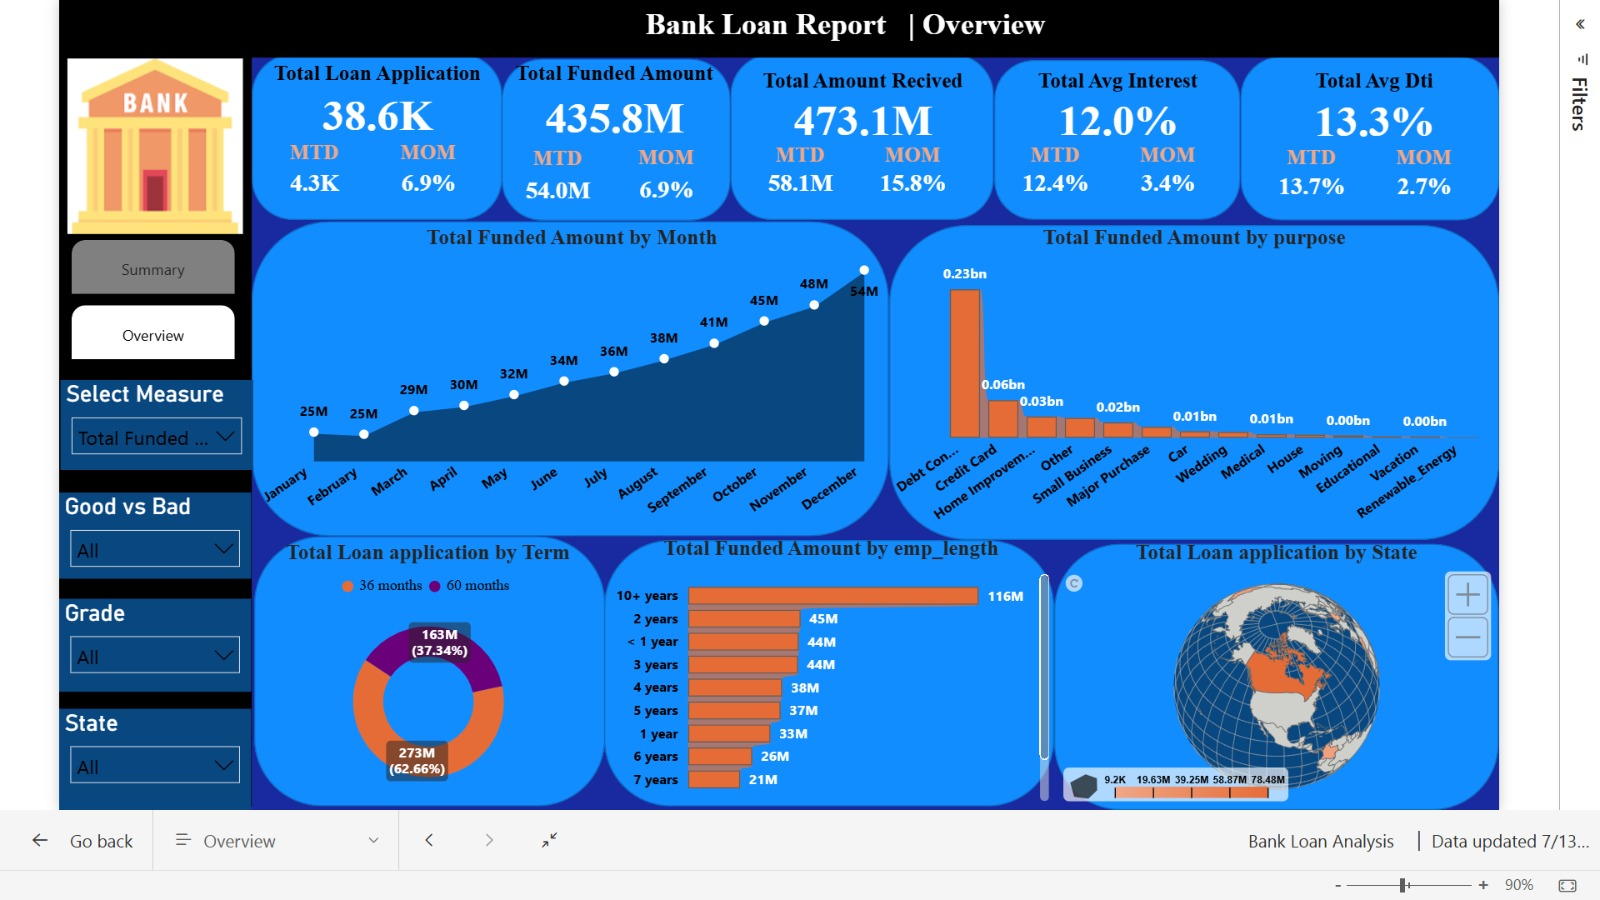

What the dashboard file says about the page in this screenshot:
{"tool":"powerbi","page":{"name":"Overview","canvas":[1280,720],"ordinal":1},"visuals":[{"type":"card","title":"Total Loan Application","fields":{"Values":["bank_loan_db financial_loan.Total Loan application"]},"box":[184,54.4,196.8,69.7],"z":0,"group":"g2"},{"type":"card","title":"Total Funded Amount","fields":{"Values":["bank_loan_db financial_loan.Total Funded Amount"]},"box":[392,54.4,202.8,74.8],"z":0,"group":"g1"},{"type":"card","title":"Total Amount Recived","fields":{"Values":["bank_loan_db financial_loan.Total Amount Recived"]},"box":[616.3,61.4,195.4,65.1],"z":0,"group":"g3"},{"type":"card","title":"Total Avg Interest","fields":{"Values":["bank_loan_db financial_loan.Total_Avg_Interest"]},"box":[842.9,61.4,195.4,65.1],"z":0,"group":"g4"},{"type":"card","title":"Total Avg Dti","fields":{"Values":["bank_loan_db financial_loan.Total_Avg_Dti"]},"box":[1071.4,61.4,195.4,67.3],"z":0,"group":"g5"},{"type":"shape","box":[884.8,483.2,395.2,236.8],"z":0},{"type":"card","title":"MTD","fields":{"Values":["bank_loan_db financial_loan.MTD Total Application"]},"box":[184,124.1,84.6,55.1],"z":1000,"group":"g2"},{"type":"card","title":"MTD","fields":{"Values":["bank_loan_db financial_loan.MTD Amount Recived"]},"box":[616.3,126.5,84,51.4],"z":1000,"group":"g3"},{"type":"card","title":"MTD","fields":{"Values":["bank_loan_db financial_loan.MTD Avg_Interest"]},"box":[842.9,126.5,84,51.4],"z":1000,"group":"g4"},{"type":"card","title":"MTD","fields":{"Values":["bank_loan_db financial_loan.MTD_Avg_Dti"]},"box":[1071.4,128.7,84,53.1],"z":1000,"group":"g5"},{"type":"card","title":"MTD","fields":{"Values":["bank_loan_db financial_loan.MTD Funded Amount"]},"box":[392.5,129.9,101.6,57.3],"z":1000,"group":"g1"},{"type":"shape","box":[172.8,476.8,312,240],"z":1000},{"type":"shape","box":[597.1,48,234.2,147.8],"z":2000},{"type":"card","title":"MOM","fields":{"Values":["bank_loan_db financial_loan.MOM Total Application"]},"box":[273.8,124.1,107,55.1],"z":2000,"group":"g2"},{"type":"card","title":"MOM","fields":{"Values":["bank_loan_db financial_loan.MOM Recived Amount"]},"box":[705.4,126.5,106.3,51.4],"z":2000,"group":"g3"},{"type":"card","title":"MOM","fields":{"Values":["bank_loan_db financial_loan.MOM Avg_Interest"]},"box":[932,126.5,106.3,51.4],"z":2000,"group":"g4"},{"type":"card","title":"MOM","fields":{"Values":["bank_loan_db financial_loan.MOM Avg_Dti"]},"box":[1160.5,128.7,106.3,53.1],"z":2000,"group":"g5"},{"type":"card","title":"MOM","fields":{"Values":["bank_loan_db financial_loan.MOM Funded Amount"]},"box":[484.5,129.2,110.3,59.1],"z":2000,"group":"g1"},{"type":"shape","box":[831.4,53.8,218.9,142.1],"z":3000},{"type":"shape","box":[393.6,51.8,203.5,144],"z":4000},{"type":"group","id":"g1","title":"Group 1","box":[392,54.4,203.2,132.8],"z":5000},{"type":"shape","box":[170.9,48,222.7,147.8],"z":6000},{"type":"shape","box":[1050.2,49.9,230.4,145.9],"z":7000},{"type":"shape","box":[0,0,1280,51.2],"z":8000},{"type":"shape","box":[0,48,171.2,668.8],"z":9000},{"type":"textbox","box":[451.2,0,496,51.2],"z":10000},{"type":"group","id":"g2","title":"Group 1","box":[184,54.4,196.8,124.8],"z":11000},{"type":"group","id":"g3","title":"Group 1","box":[616.3,61.4,195.8,117.1],"z":12000},{"type":"group","id":"g4","title":"Group 1","box":[842.9,61.4,195.8,117.1],"z":13000},{"type":"group","id":"g5","title":"Group 1","box":[1071.4,61.4,195.8,121],"z":14000},{"type":"slicer","title":"Good vs Bad","fields":{"Values":["bank_loan_db financial_loan.Good  VS Bad Loan"]},"box":[0,437.8,170.9,76.8],"z":15000},{"type":"slicer","title":"Grade","fields":{"Values":["bank_loan_db financial_loan.grade"]},"box":[0,531.8,170.9,82.6],"z":16000},{"type":"slicer","title":"State","fields":{"Values":["bank_loan_db financial_loan.address_state"]},"box":[0,629.8,170.9,90.2],"z":17000},{"type":"shape","box":[171.2,196.8,566.4,280],"z":18000},{"type":"slicer","title":"Select Measure","fields":{"Values":["Measure.Measure"]},"box":[1.6,337.6,171.2,80],"z":19000},{"type":"areaChart","fields":{"Y":["bank_loan_db financial_loan.Total Loan application"],"Category":["Date Table.Date.Variation.Date Hierarchy.Month"]},"box":[172.8,200,564.8,276.8],"z":20000},{"type":"shape","box":[737.6,200,542.4,280],"z":21000},{"type":"maps","title":"Total Loan application by State","fields":{"measure":["bank_loan_db financial_loan.Total Loan application"],"country":["bank_loan_db financial_loan.address_state"]},"box":[884.8,480,395.2,240],"z":22000},{"type":"donutChart","title":"Total Loan application by Term","fields":{"Y":["bank_loan_db financial_loan.Total Loan application"],"Category":["bank_loan_db financial_loan.term"]},"box":[171.2,480,313.6,236.8],"z":23000},{"type":"shape","box":[484.8,480,400,236.8],"z":24000},{"type":"barChart","fields":{"Y":["bank_loan_db financial_loan.Total Loan application"],"Category":["bank_loan_db financial_loan.emp_length"]},"box":[488,476.8,396.8,240],"z":25000},{"type":"columnChart","fields":{"Y":["bank_loan_db financial_loan.Total Loan application"],"Category":["bank_loan_db financial_loan.purpose"]},"box":[737.6,200,542.4,276.8],"z":26000},{"type":"image","box":[0,46.4,171.2,166.4],"z":27000},{"type":"pageNavigator","box":[11.2,212.8,145.6,107.2],"z":28000}]}

Visuals, with their boxes on the page's 1280x720 design canvas (x1, y1, x2, y2). These are canvas units, not pixel positions in the 1600x900 screenshot, which may show the page scaled, cropped or inside an application window:
"Total Loan Application" card: crop(184, 54, 381, 124)
"Total Funded Amount" card: crop(392, 54, 595, 129)
"Total Amount Recived" card: crop(616, 61, 812, 126)
"Total Avg Interest" card: crop(843, 61, 1038, 126)
"Total Avg Dti" card: crop(1071, 61, 1267, 129)
shape: crop(885, 483, 1280, 720)
"MTD" card: crop(184, 124, 269, 179)
"MTD" card: crop(616, 126, 700, 178)
"MTD" card: crop(843, 126, 927, 178)
"MTD" card: crop(1071, 129, 1155, 182)
"MTD" card: crop(392, 130, 494, 187)
shape: crop(173, 477, 485, 717)
shape: crop(597, 48, 831, 196)
"MOM" card: crop(274, 124, 381, 179)
"MOM" card: crop(705, 126, 812, 178)
"MOM" card: crop(932, 126, 1038, 178)
"MOM" card: crop(1160, 129, 1267, 182)
"MOM" card: crop(484, 129, 595, 188)
shape: crop(831, 54, 1050, 196)
shape: crop(394, 52, 597, 196)
"Group 1" group: crop(392, 54, 595, 187)
shape: crop(171, 48, 394, 196)
shape: crop(1050, 50, 1281, 196)
shape: crop(0, 0, 1280, 51)
shape: crop(0, 48, 171, 717)
textbox: crop(451, 0, 947, 51)
"Group 1" group: crop(184, 54, 381, 179)
"Group 1" group: crop(616, 61, 812, 178)
"Group 1" group: crop(843, 61, 1039, 178)
"Group 1" group: crop(1071, 61, 1267, 182)
"Good vs Bad" slicer: crop(0, 438, 171, 515)
"Grade" slicer: crop(0, 532, 171, 614)
"State" slicer: crop(0, 630, 171, 720)
shape: crop(171, 197, 738, 477)
"Select Measure" slicer: crop(2, 338, 173, 418)
areaChart - bank_loan_db financial_loan.Total Loan application x Date Table.Date.Variation.Date Hierarchy.Month: crop(173, 200, 738, 477)
shape: crop(738, 200, 1280, 480)
"Total Loan application by State" maps: crop(885, 480, 1280, 720)
"Total Loan application by Term" donutChart: crop(171, 480, 485, 717)
shape: crop(485, 480, 885, 717)
barChart - bank_loan_db financial_loan.Total Loan application x bank_loan_db financial_loan.emp_length: crop(488, 477, 885, 717)
columnChart - bank_loan_db financial_loan.Total Loan application x bank_loan_db financial_loan.purpose: crop(738, 200, 1280, 477)
image: crop(0, 46, 171, 213)
pageNavigator: crop(11, 213, 157, 320)
